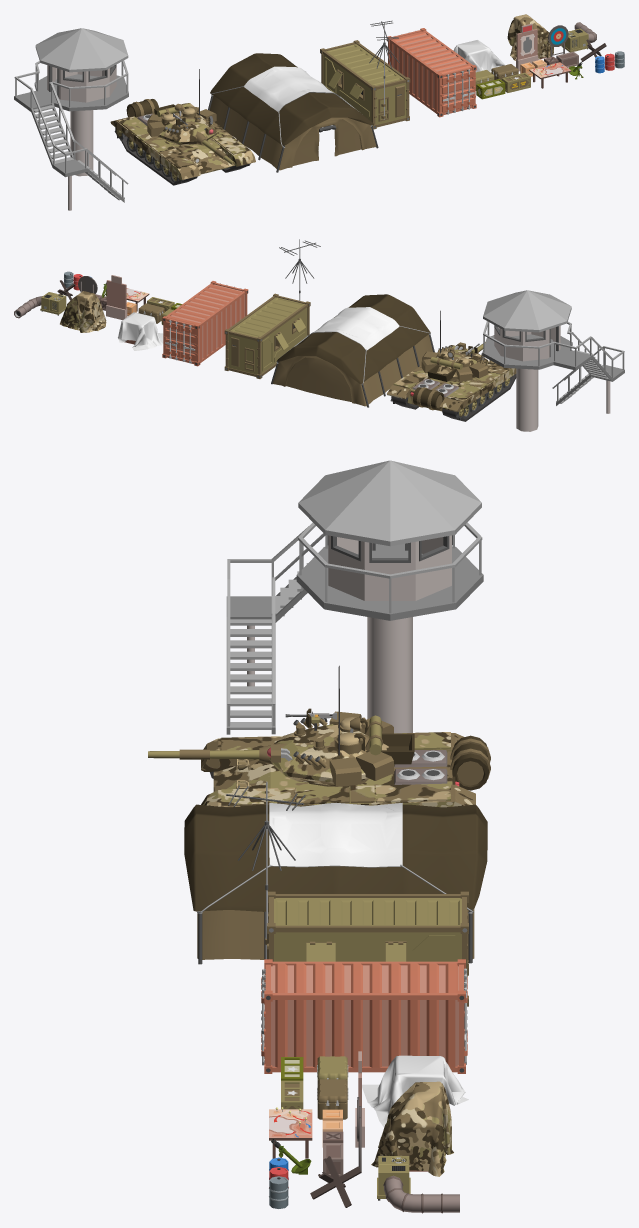
3 views of the same model, one above another, from view 1: azimuth 30°, elevation 25°; view 2: azimuth 150°, elevation 25°; view 3: azimuth 270°, elevation 25° (orthographic). The views are drawn at different scales.
Visible parts, largest first — view 1: tent_001, tower_001, radiostation_001, tank_001, container_001, tank_tower_001, box_002, box_001, target_002, conditioner_001, table_001, box_006 (+4 smaller); view 2: tent_001, tower_001, radiostation_001, container_001, tank_001, tank_tower_001, box_002, box_001, target_002, conditioner_001, box_004, target_001; view 3: tower_001, tent_001, container_001, radiostation_001, tank_001, tank_tower_001, box_002, box_001, conditioner_001, table_001, tank_gun_001, box_004.
Part boxes in pixels (x1,y1,x2,y2): tent_001: (208, 53, 378, 172); tower_001: (14, 28, 128, 210); radiostation_001: (320, 20, 410, 129); tank_001: (110, 99, 255, 185); container_001: (386, 28, 476, 117); tank_tower_001: (147, 69, 217, 145); box_002: (507, 14, 553, 60); box_001: (453, 40, 504, 72); target_002: (516, 23, 538, 71); conditioner_001: (561, 22, 596, 52); table_001: (529, 62, 571, 88); box_006: (476, 79, 505, 99); tent_001: (271, 294, 434, 407); tower_001: (482, 290, 624, 431); radiostation_001: (224, 239, 320, 378); container_001: (162, 281, 248, 366); tank_001: (387, 345, 516, 421); tank_tower_001: (421, 310, 488, 381); box_002: (60, 291, 106, 332); box_001: (118, 312, 163, 350); target_002: (106, 275, 127, 320); conditioner_001: (14, 292, 66, 318); box_004: (138, 303, 164, 323); target_001: (78, 276, 97, 293); tower_001: (226, 460, 483, 734); tent_001: (184, 802, 487, 964); container_001: (261, 959, 467, 1073); radiostation_001: (226, 781, 468, 1006); tank_001: (201, 732, 490, 807); tank_tower_001: (267, 665, 414, 786); box_002: (371, 1081, 453, 1176); box_001: (362, 1055, 468, 1127); conditioner_001: (377, 1156, 459, 1213); table_001: (269, 1107, 312, 1158); tank_gun_001: (148, 743, 286, 764); box_004: (317, 1079, 348, 1119).
Bounding box in the file's own units: 38.94 × 9.31 × 10.45.
2 materials, 2 textured.
